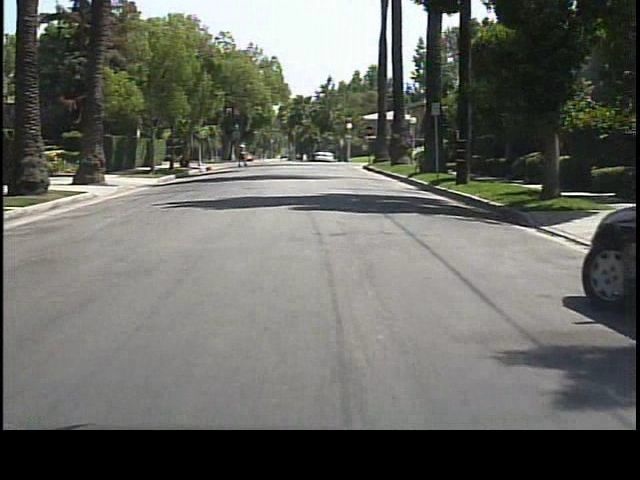person: (235, 138, 250, 170)
